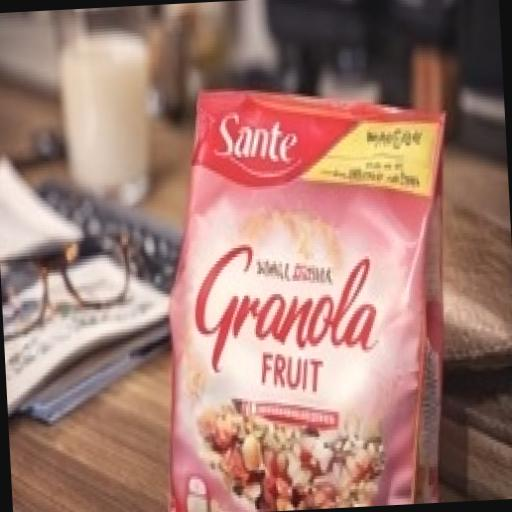granola: (120, 49, 471, 512)
